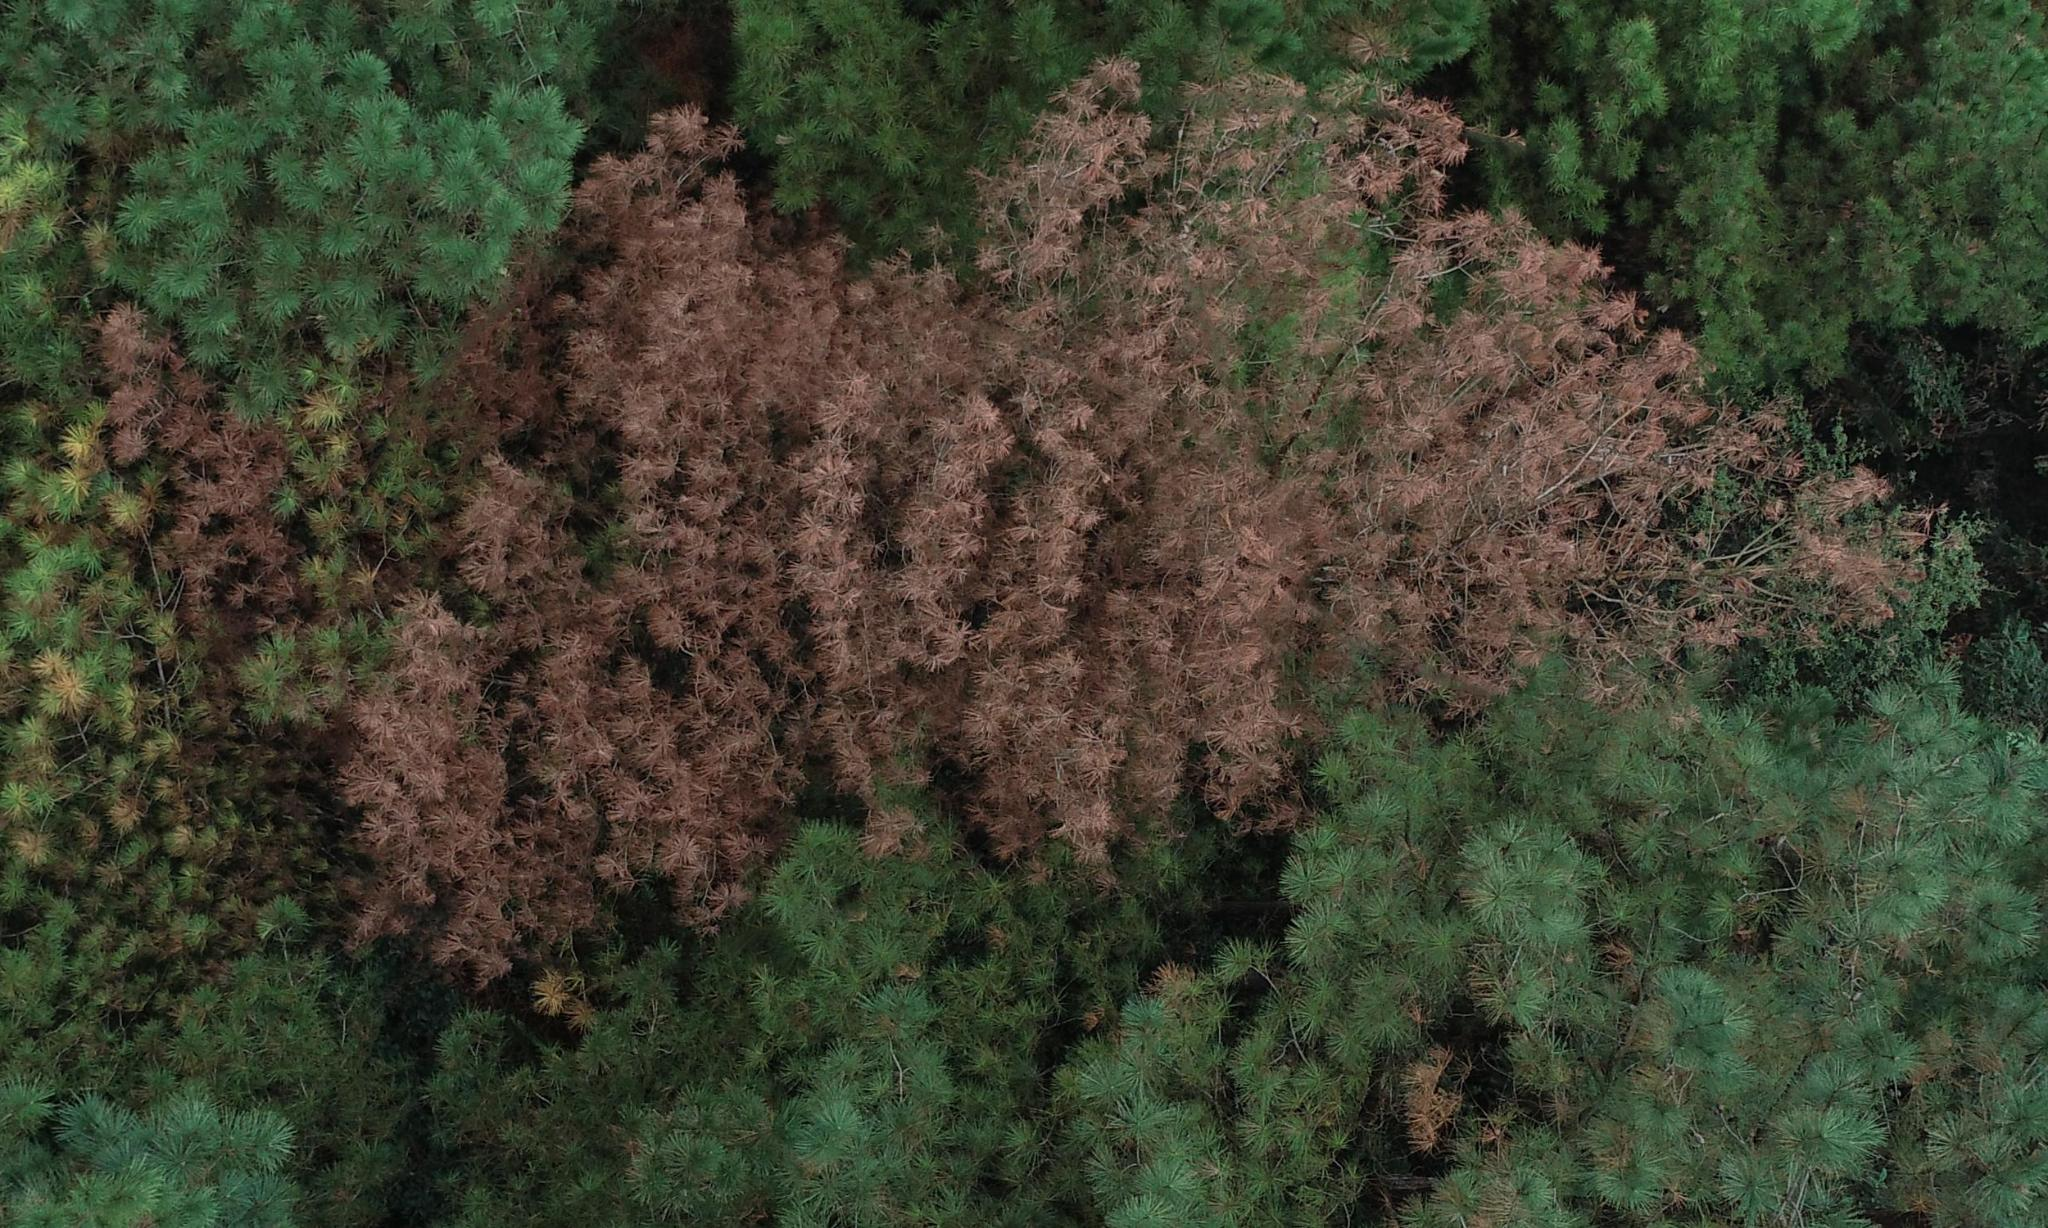heavy: (96, 51, 1965, 893)
light: (18, 339, 319, 1039)
